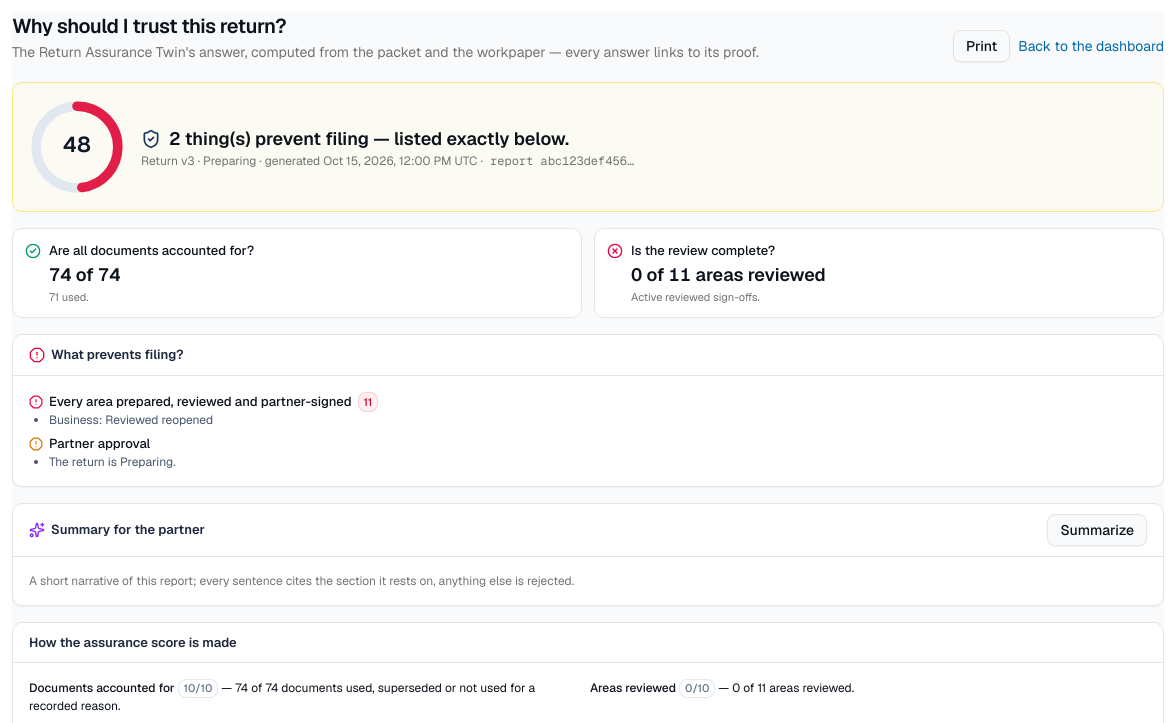
Test: Why should I trust this return? › answers each question, lists the blockers, ends with the closing statement and summarizes on request
Expected: the text "2 thing(s) prevent filing — listed exactly below." is shown, [141,127,569,150]
Expected: the text "Are all documents accounted for?" is shown, [49,242,254,259]
What coordinates should you click on to do the following:
click the button "Summarize"
I would click on:
 (1097, 530)
Its box is [1048,514,1147,546].
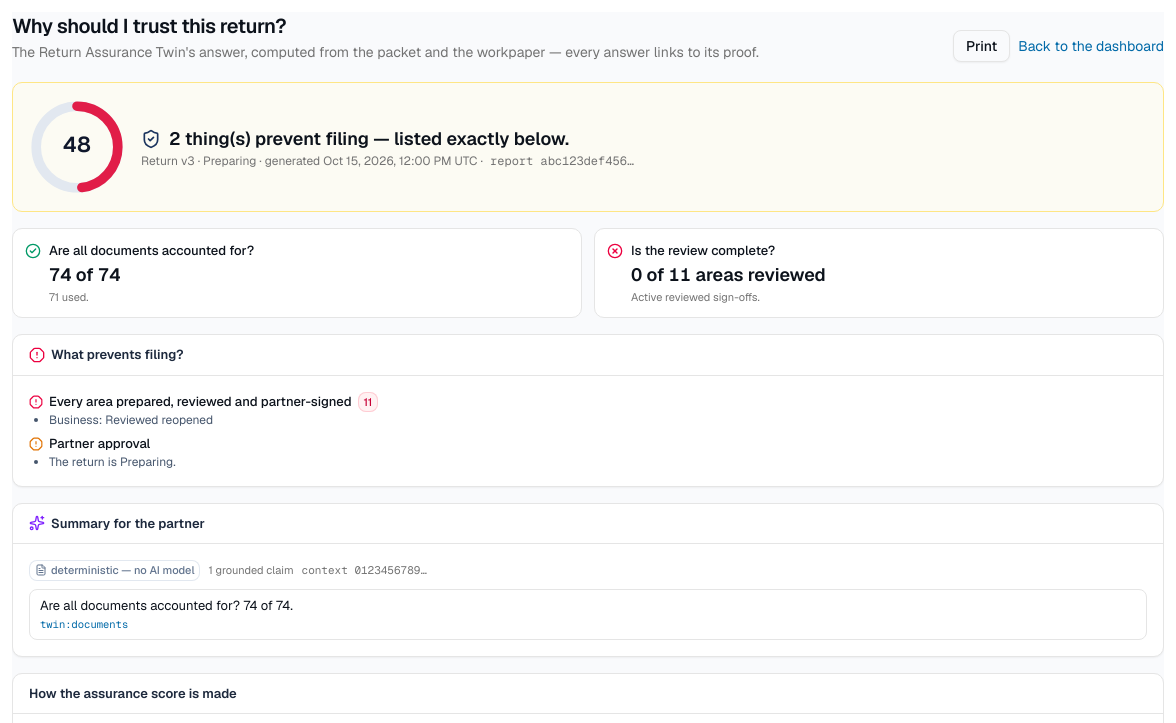
Expected: the text "Are all documents accounted for? 74 of 74." is shown, [40,596,293,614]
